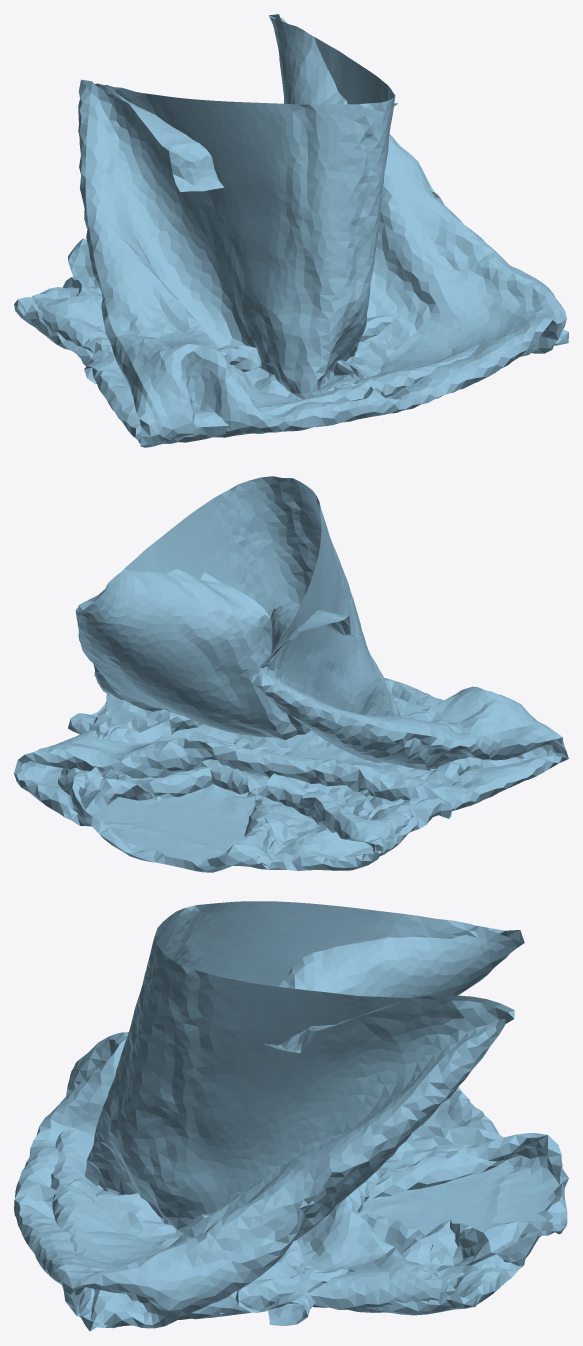
File: frame_18.glb
3 renders of one model, top to bottom at view 1: azimuth 30°, elevation 25°; view 2: azimuth 150°, elevation 25°; view 3: azimuth 270°, elevation 25°, orthographic. The views are drawn at different scales.
Parts seen in each view (by area): view 1: frame_18.obj; view 2: frame_18.obj; view 3: frame_18.obj.
Part boxes in pixels (<box>): frame_18.obj: <box>14,14,568,447</box>; frame_18.obj: <box>14,476,568,872</box>; frame_18.obj: <box>14,901,568,1331</box>.
Size of the model in its own units: 0.9375 by 0.5471 by 0.8932.
